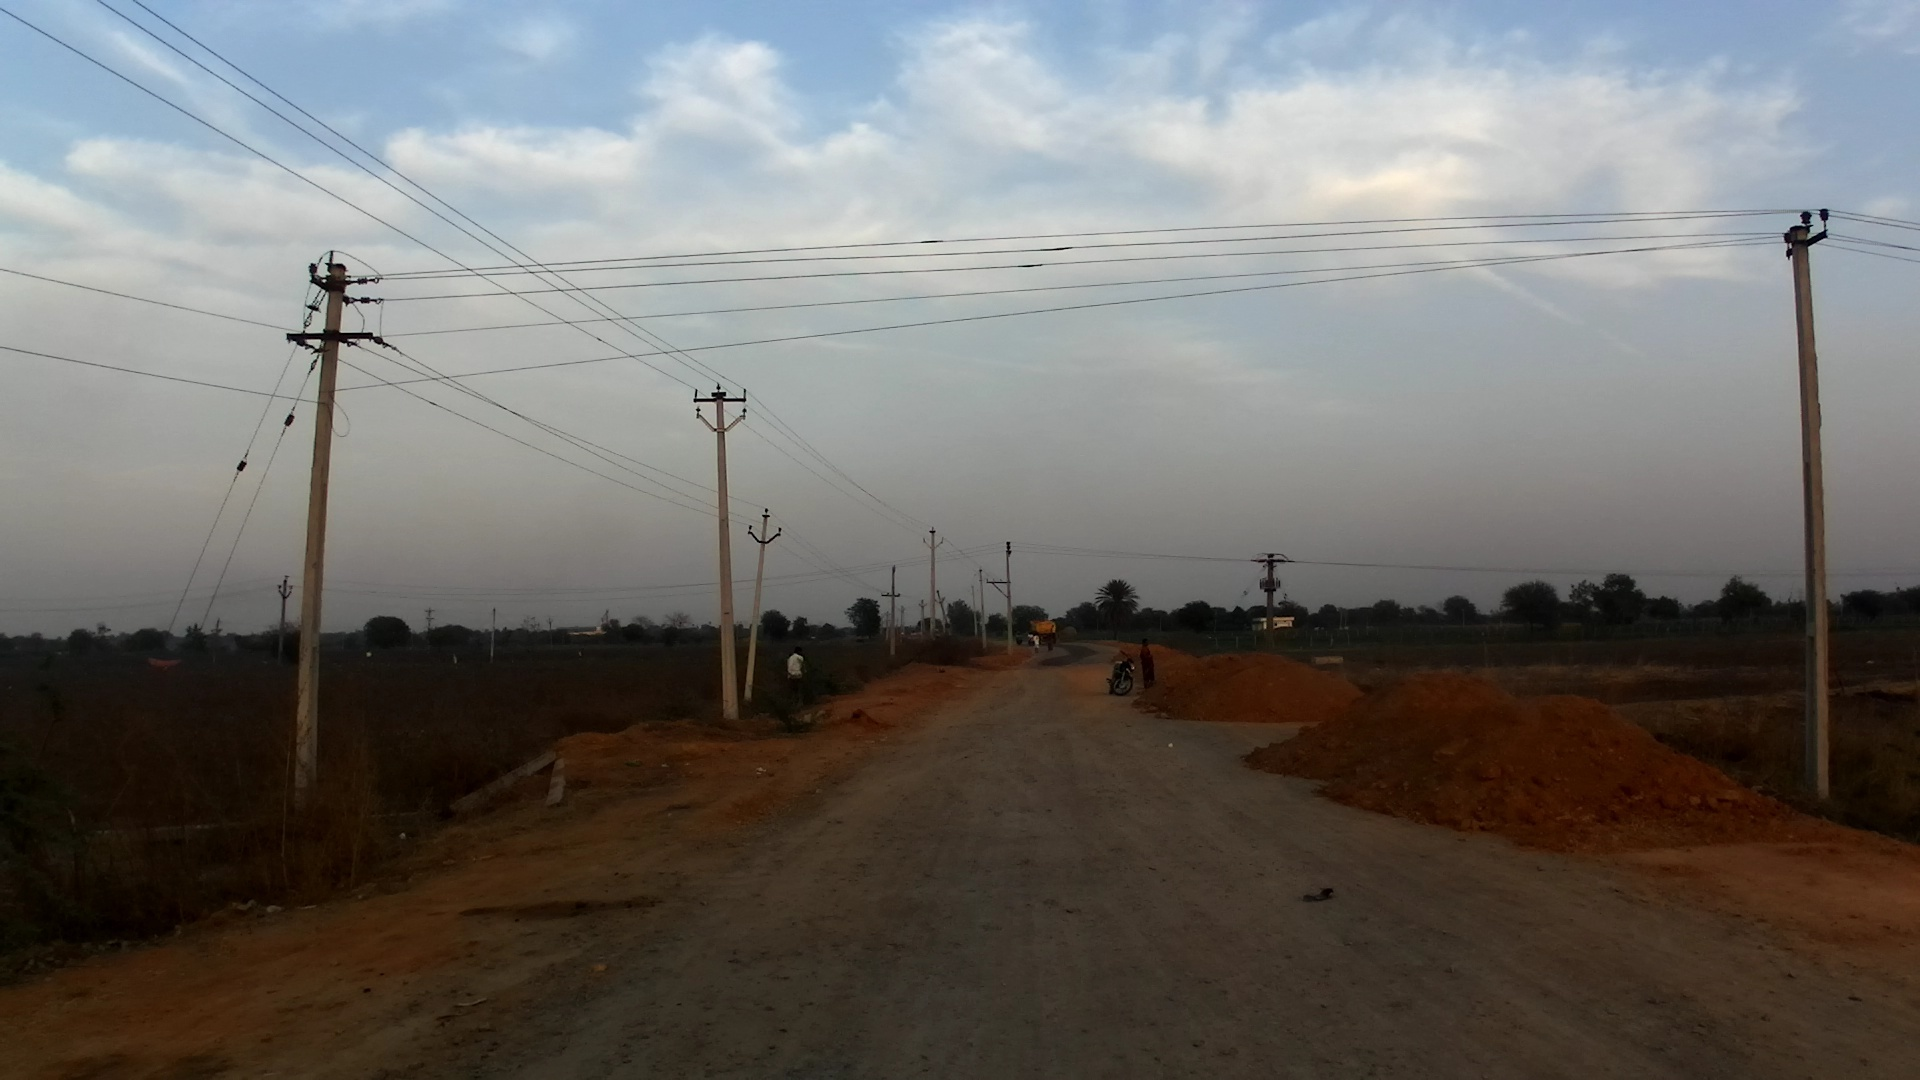motorcycle: (1100, 651, 1138, 702)
person: (786, 642, 809, 699), (1136, 638, 1158, 693), (1030, 634, 1041, 658), (1043, 630, 1055, 652)
truck: (1024, 618, 1059, 648)
vehicle fallback: (1014, 635, 1026, 647)
